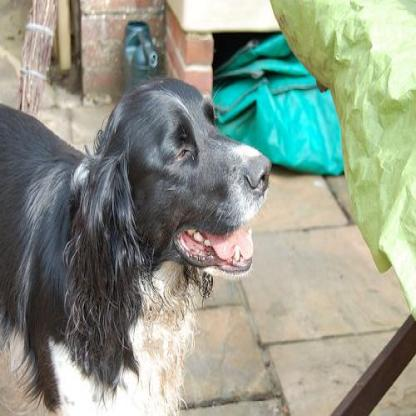English_springer: (0, 75, 272, 413)
